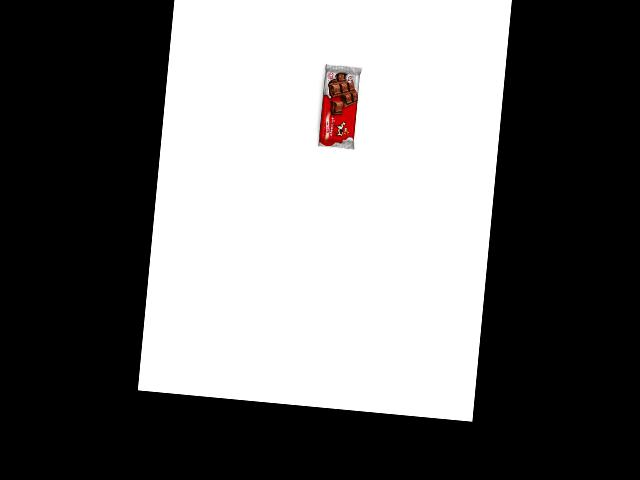chocolate: (317, 61, 362, 150)
